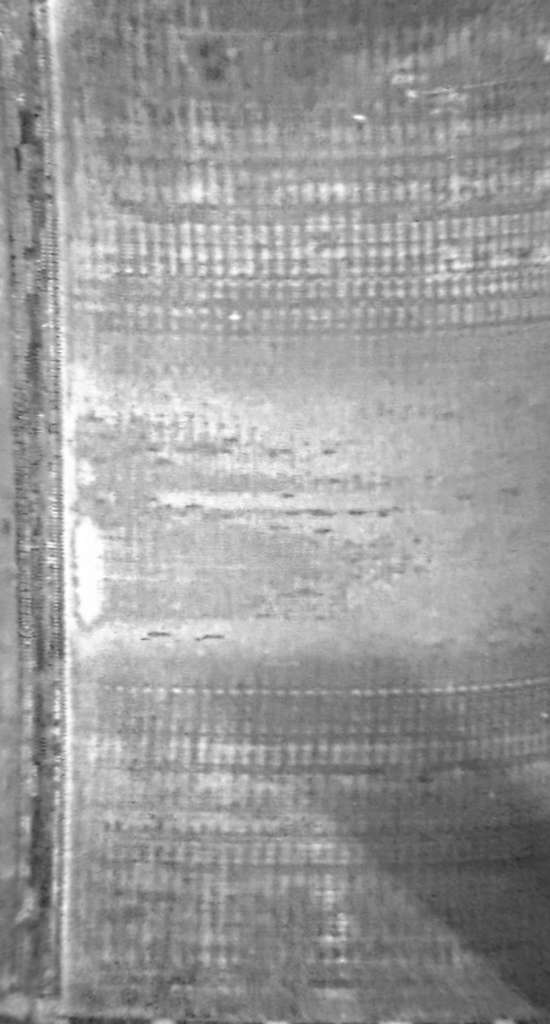splice: (1, 1, 78, 1024)
